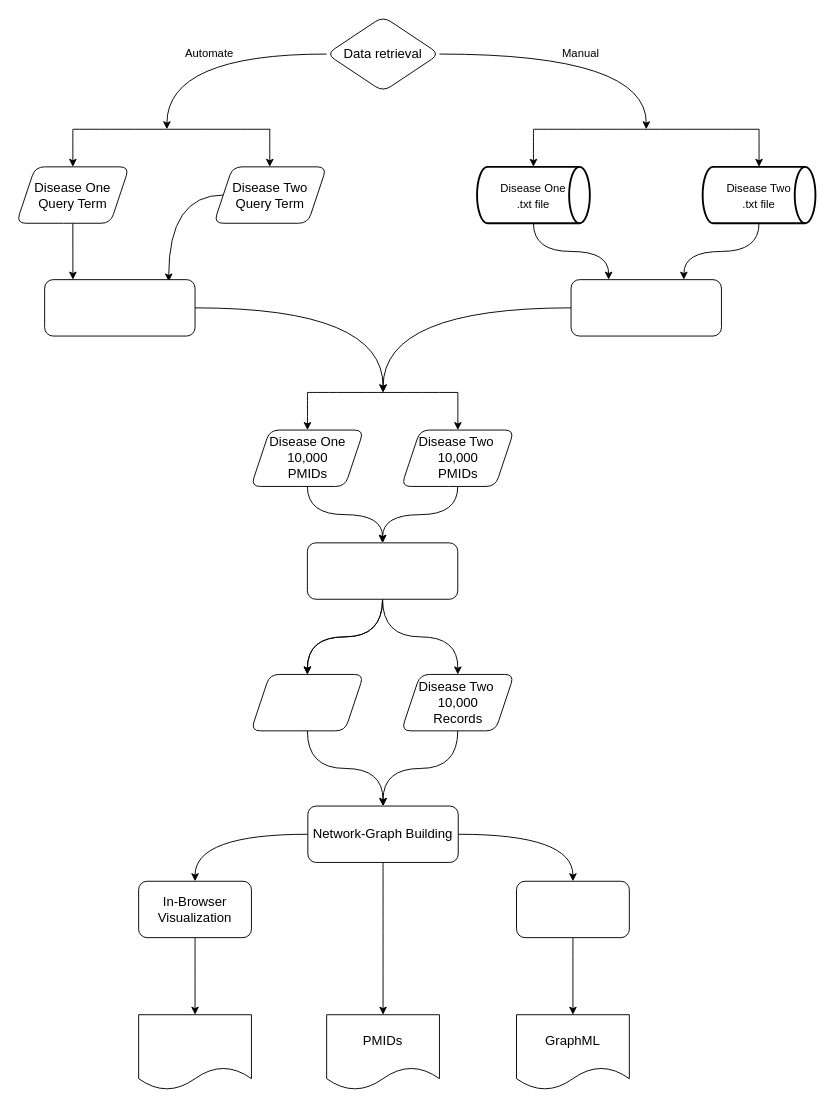
This 833x1106 diagram has some shape labels left out. Here are the shapes that lost their labels. From the top down, the centre of each, then its label:
At point 119,307: "eSearch".
At point 645,307: "Processing .txt Files".
At point 382,570: "eFetch".
At point 307,702: "Disease One 10,000 Records".
At point 572,909: "3rd Party Software Visualization".
At point 194,1052: "HTML".
